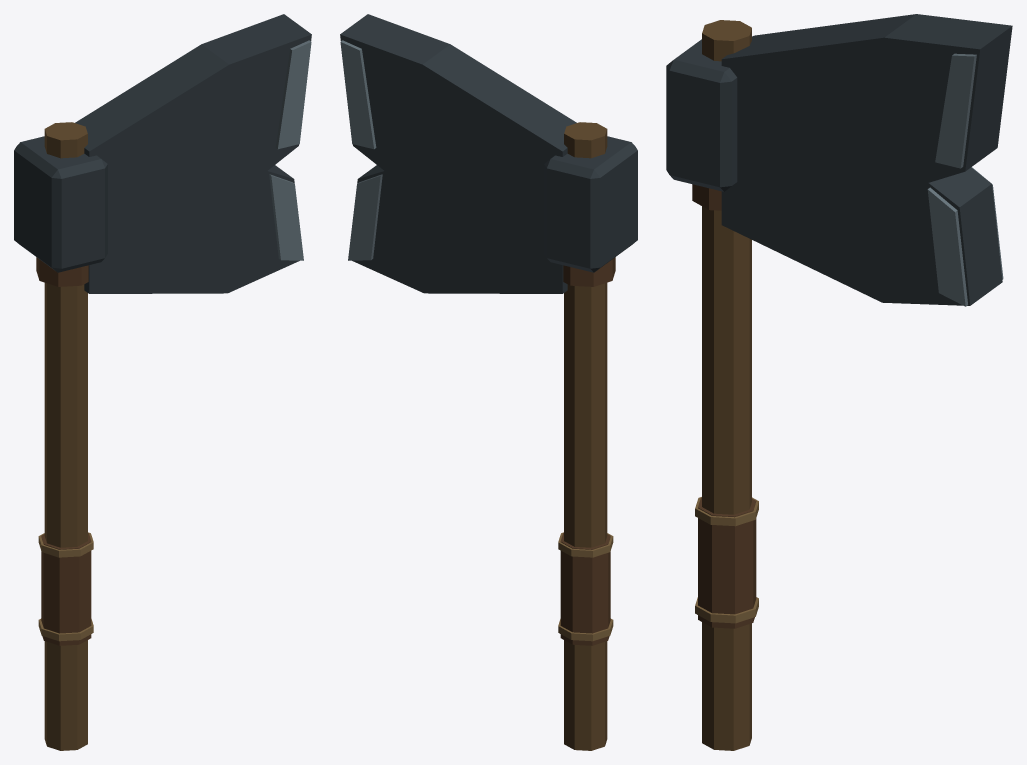
File: WoodAxe.glb
3 views of the same model, side by side, from view 1: azimuth 30°, elevation 25°; view 2: azimuth 150°, elevation 25°; view 3: azimuth 330°, elevation 25° (orthographic). The views are drawn at different scales.
Visible parts, largest first — view 1: Sculpture; view 2: Sculpture; view 3: Sculpture.
Boxes of the visible parts, x1,y1,x2,y2 form: Sculpture: (14,14,311,750); Sculpture: (340,14,637,750); Sculpture: (666,14,1012,750).
Size of the model in its own units: 0.4945 by 1.18 by 0.145.
